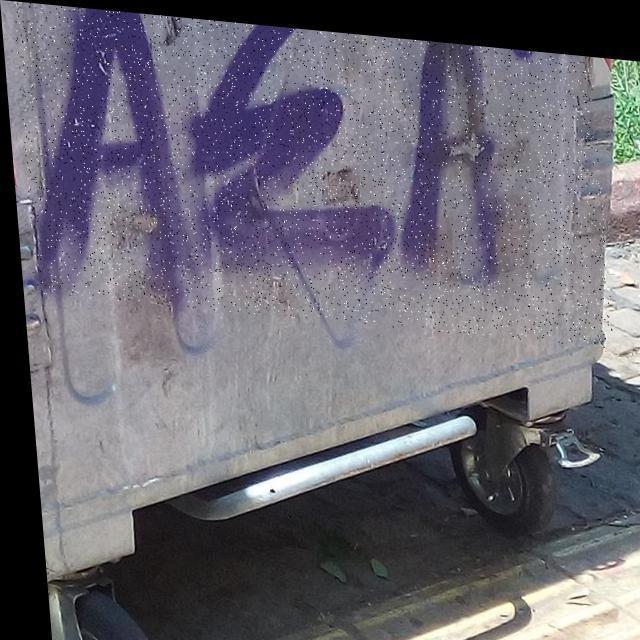-: (13, 1, 610, 337)
